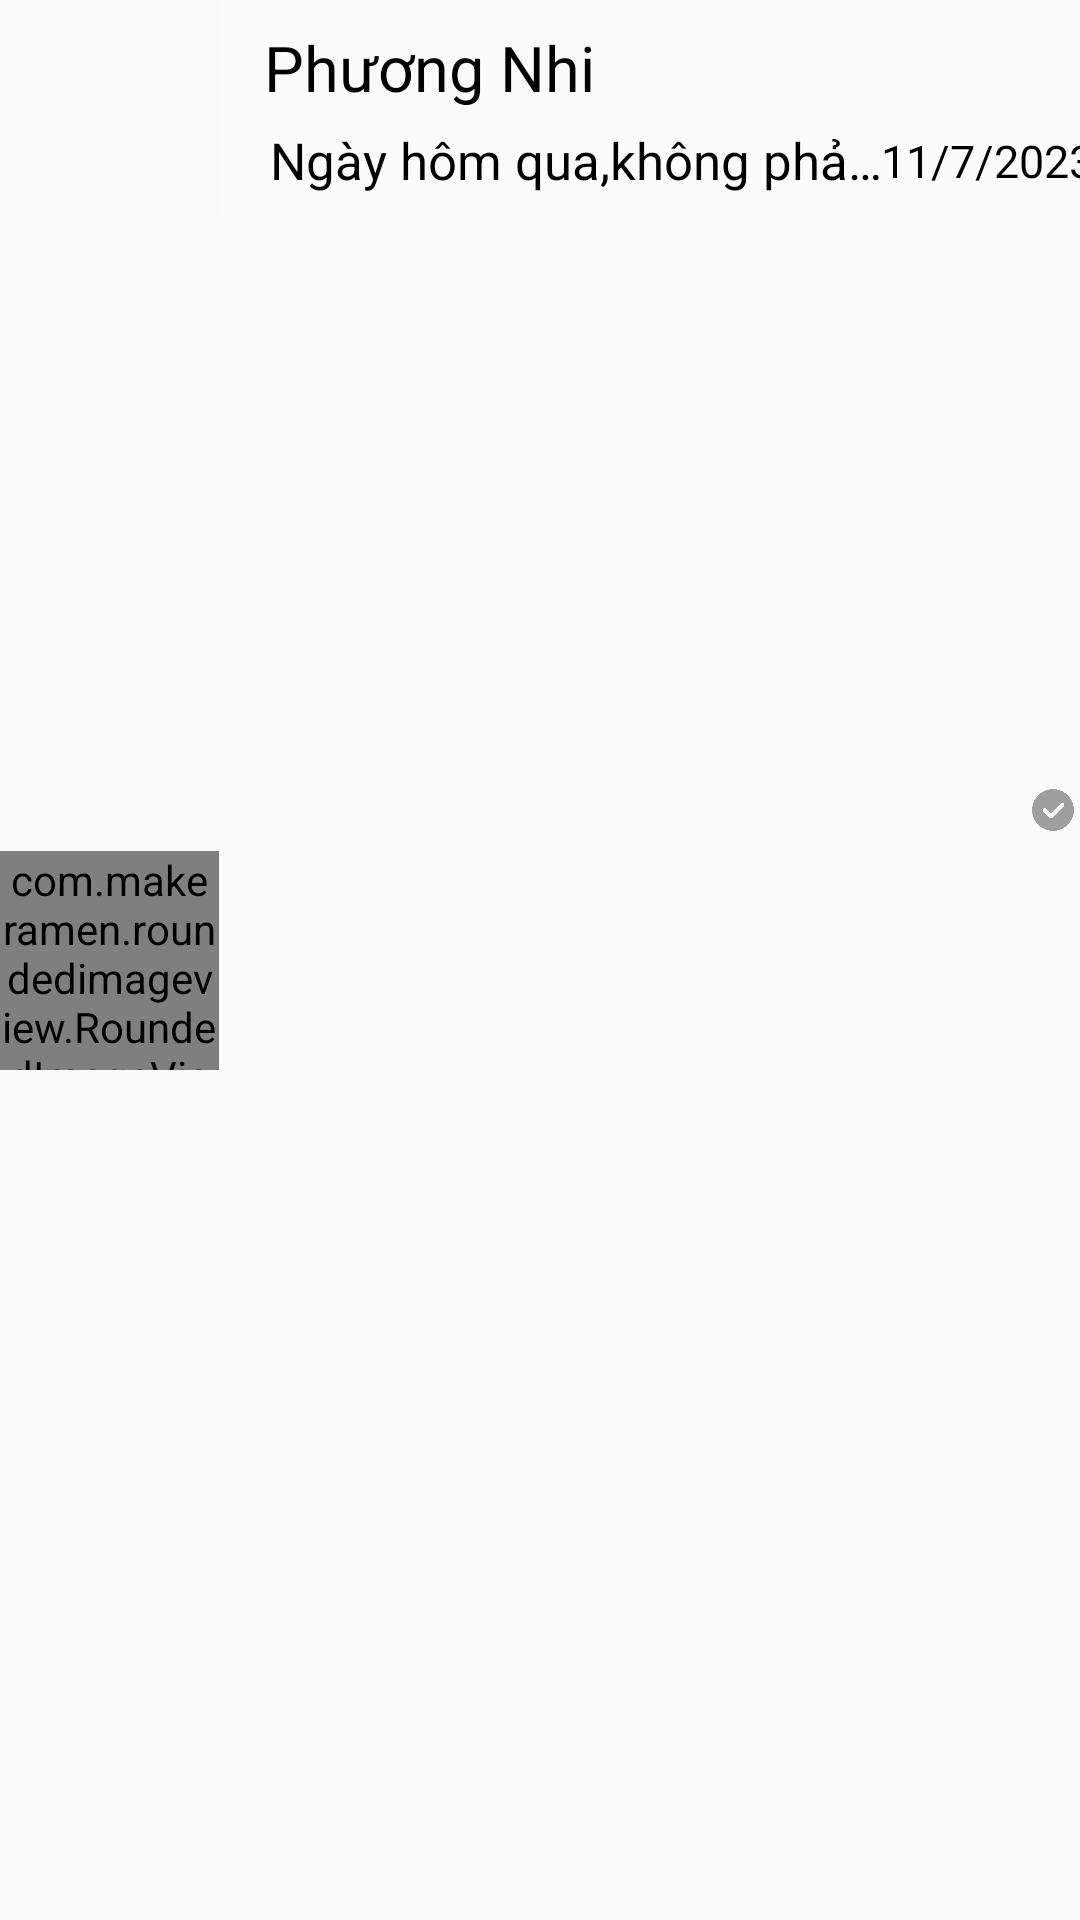

Icons on this 1080px x 1920px Android screen, each with the point to tap as (x=x, y=y):
tick: (x=1053, y=810)
